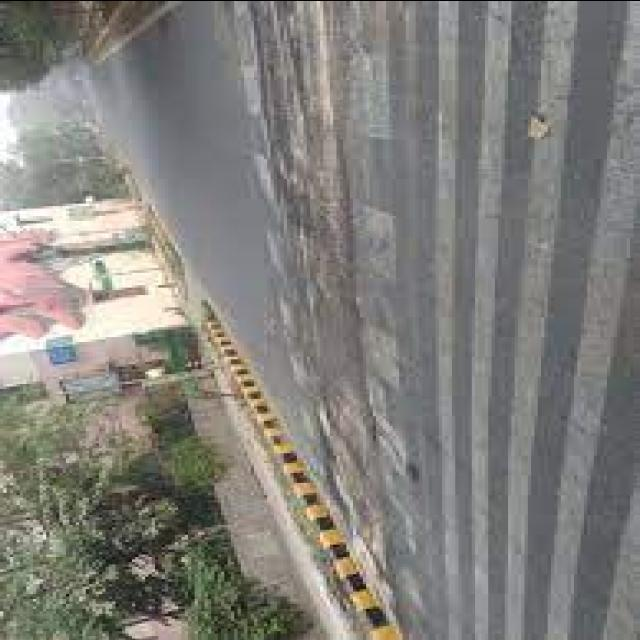speedbreaker: (234, 0, 425, 573)
